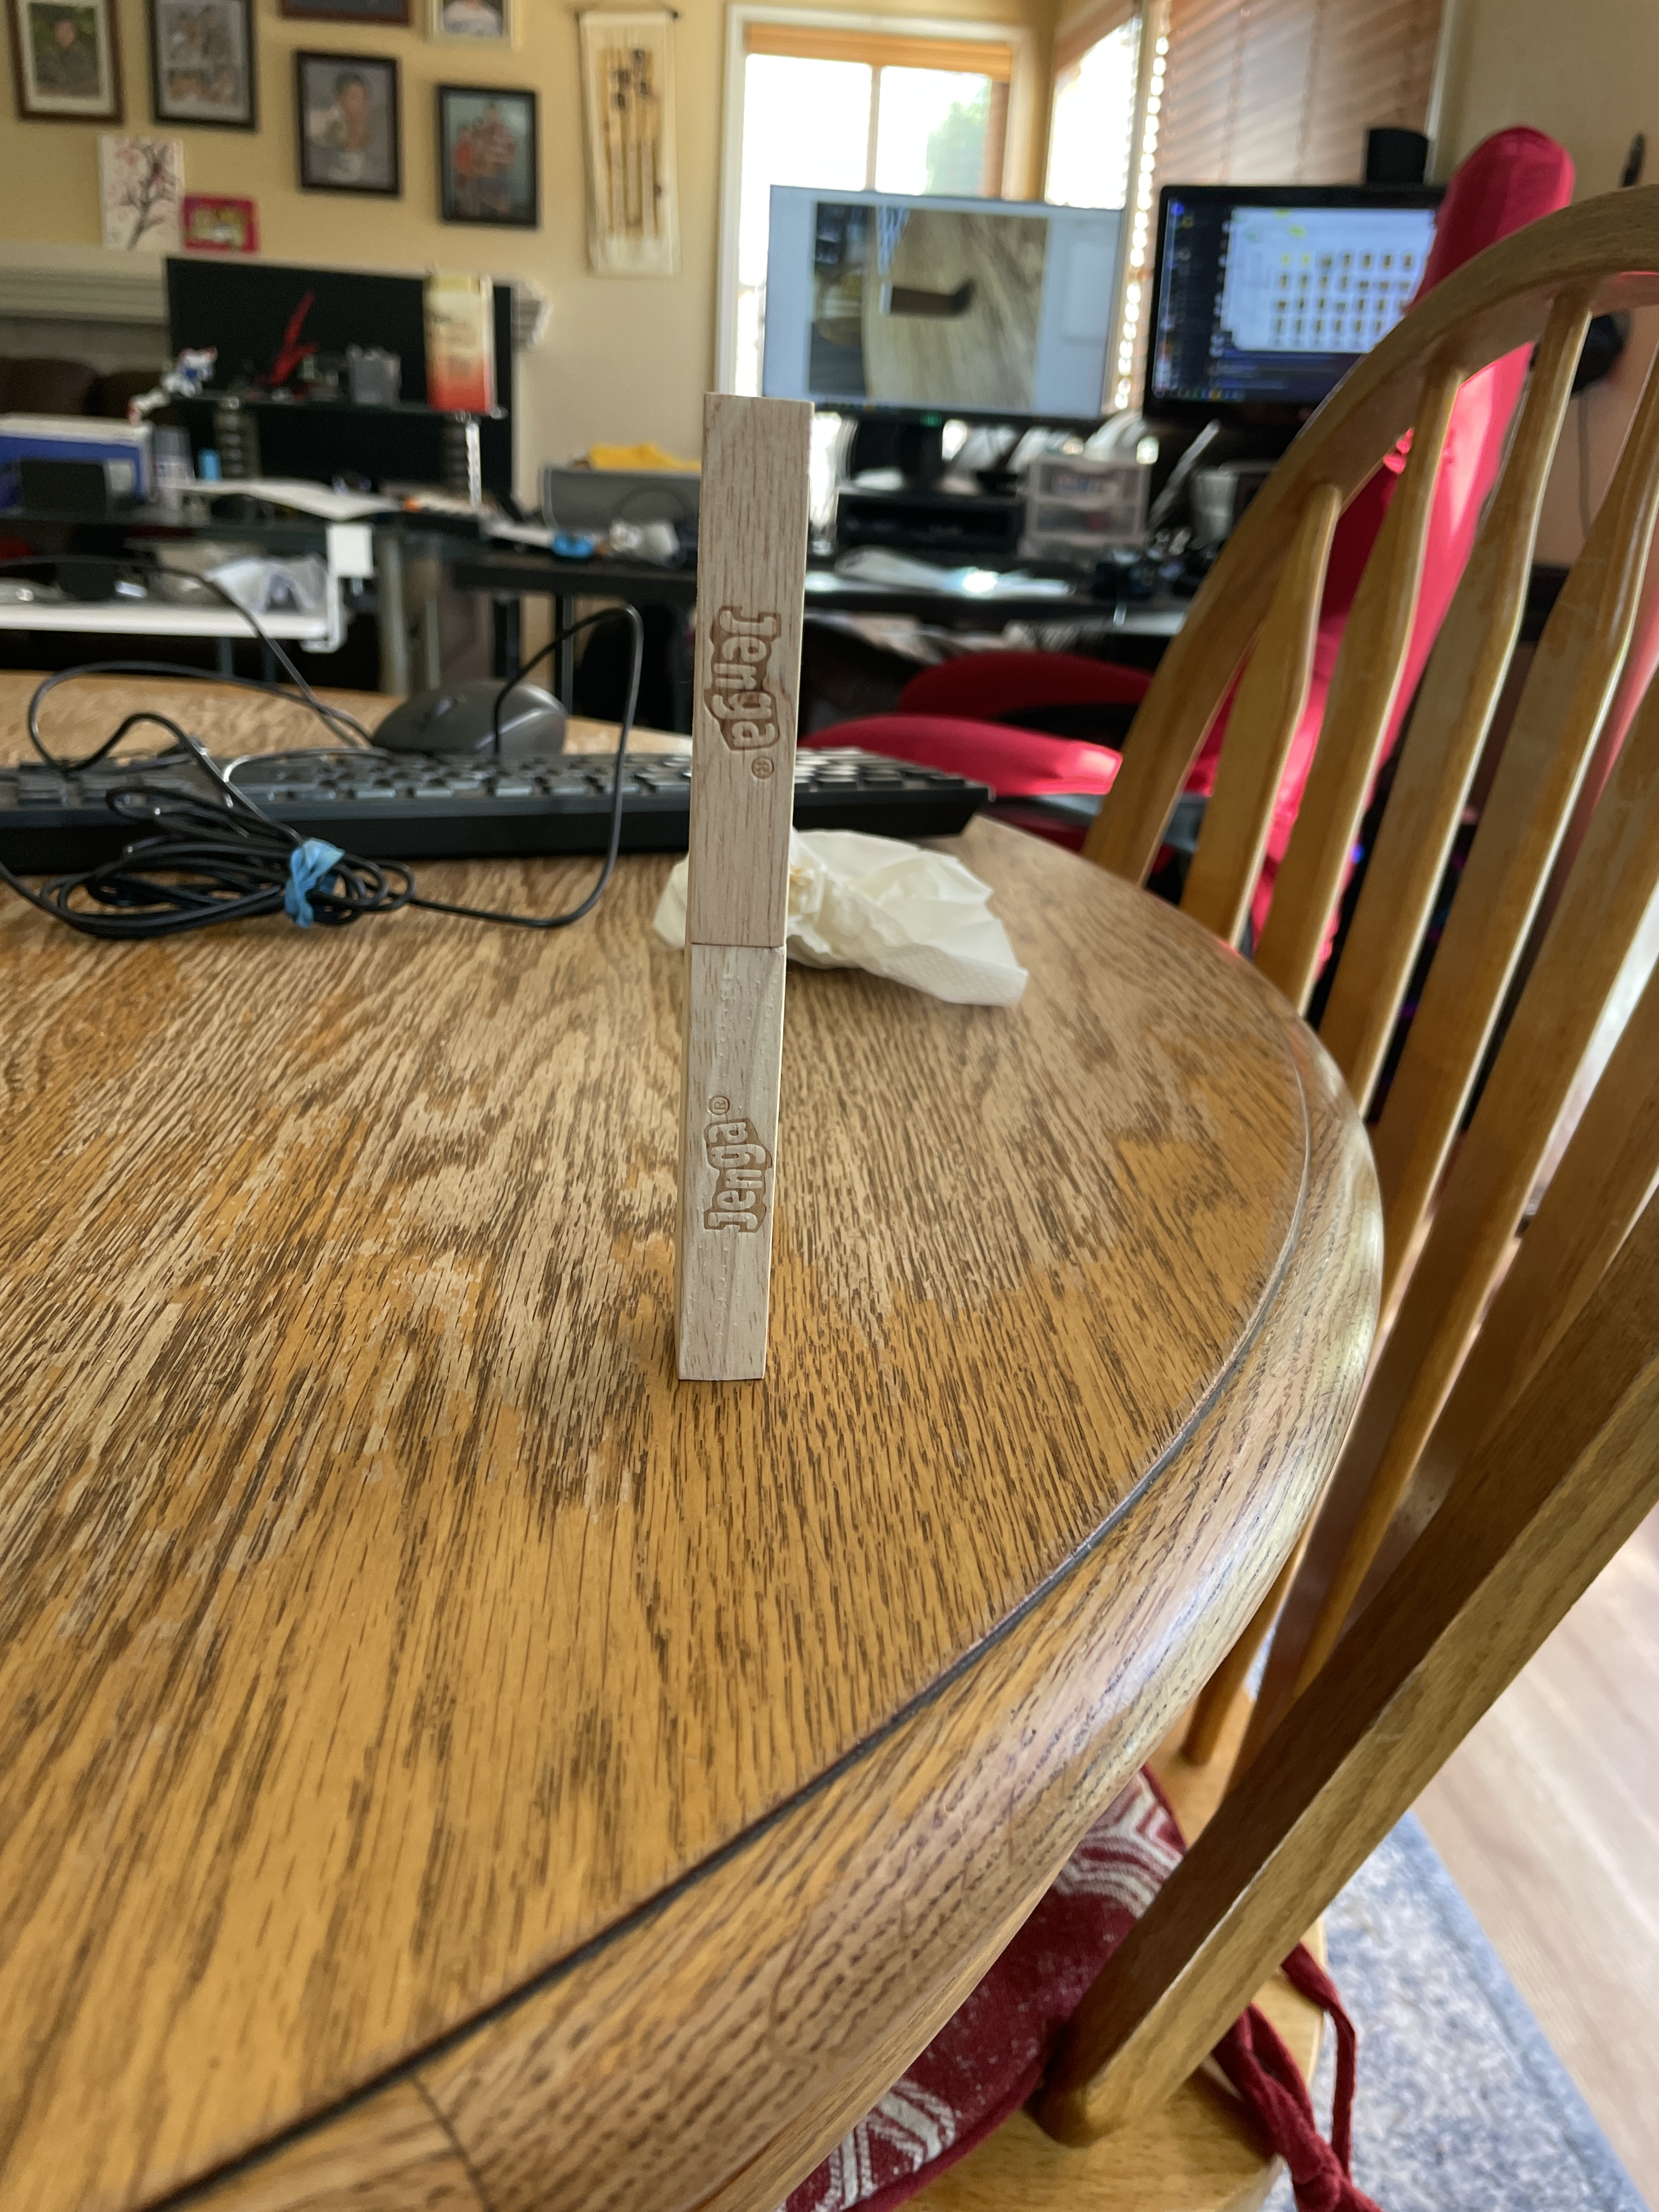jenga: (681, 387, 809, 948), (676, 932, 774, 1392)
